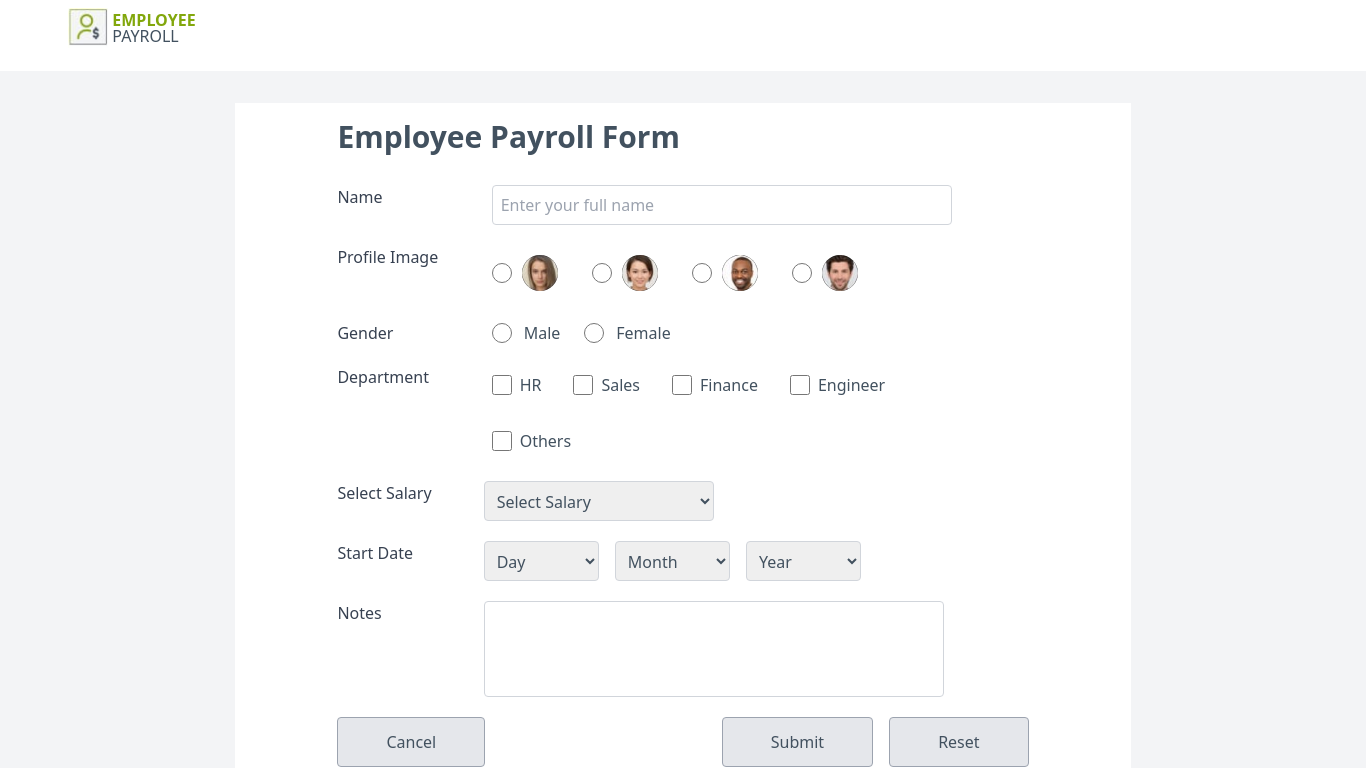
Test: Registration Component › resets form fields when Reset button is clicked
This screenshot has width=1366, height=768.
In the field labelled "Name": (722,205) x1=492 y1=185 x2=952 y2=225, type "Reset Test"
Click the radio button labelled "Male": (502,333) x1=492 y1=323 x2=512 y2=343
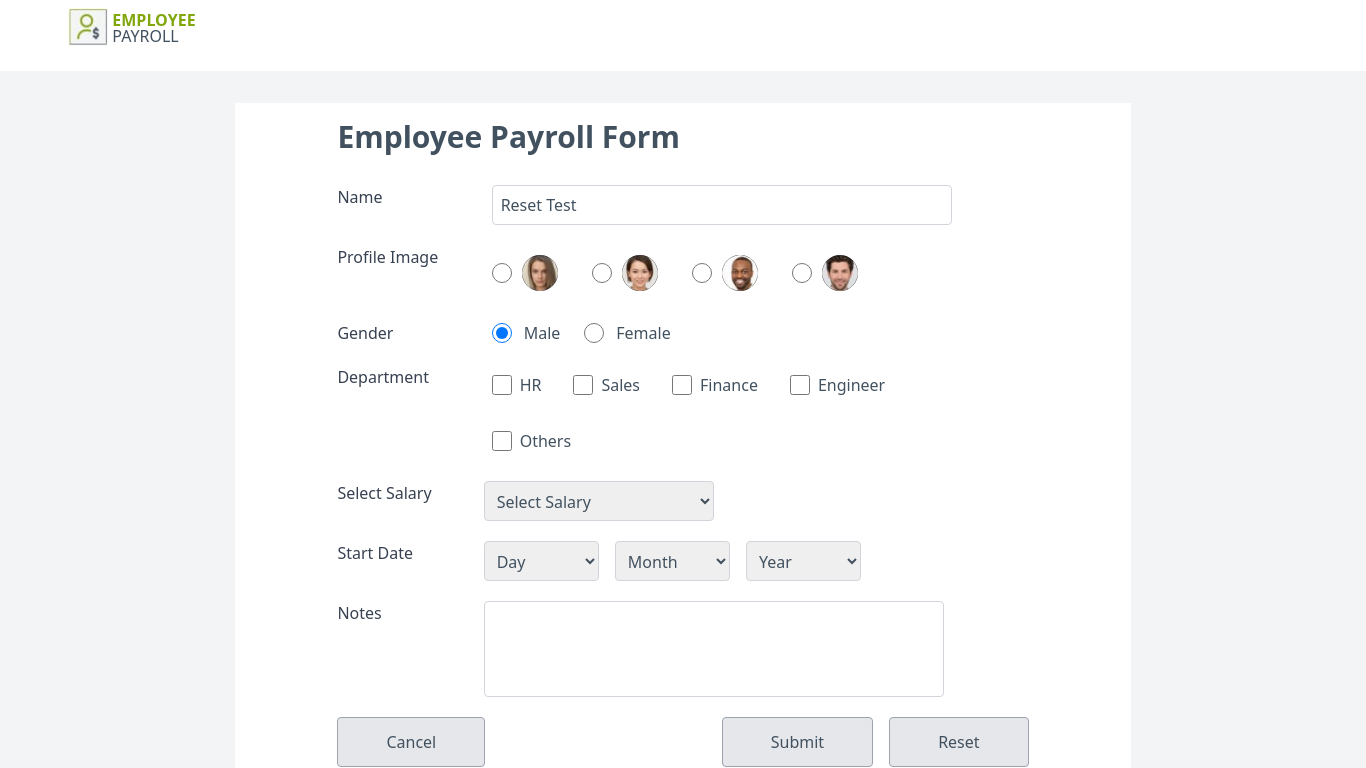
Click the checkbox labelled "HR": (502,385) x1=492 y1=375 x2=512 y2=395
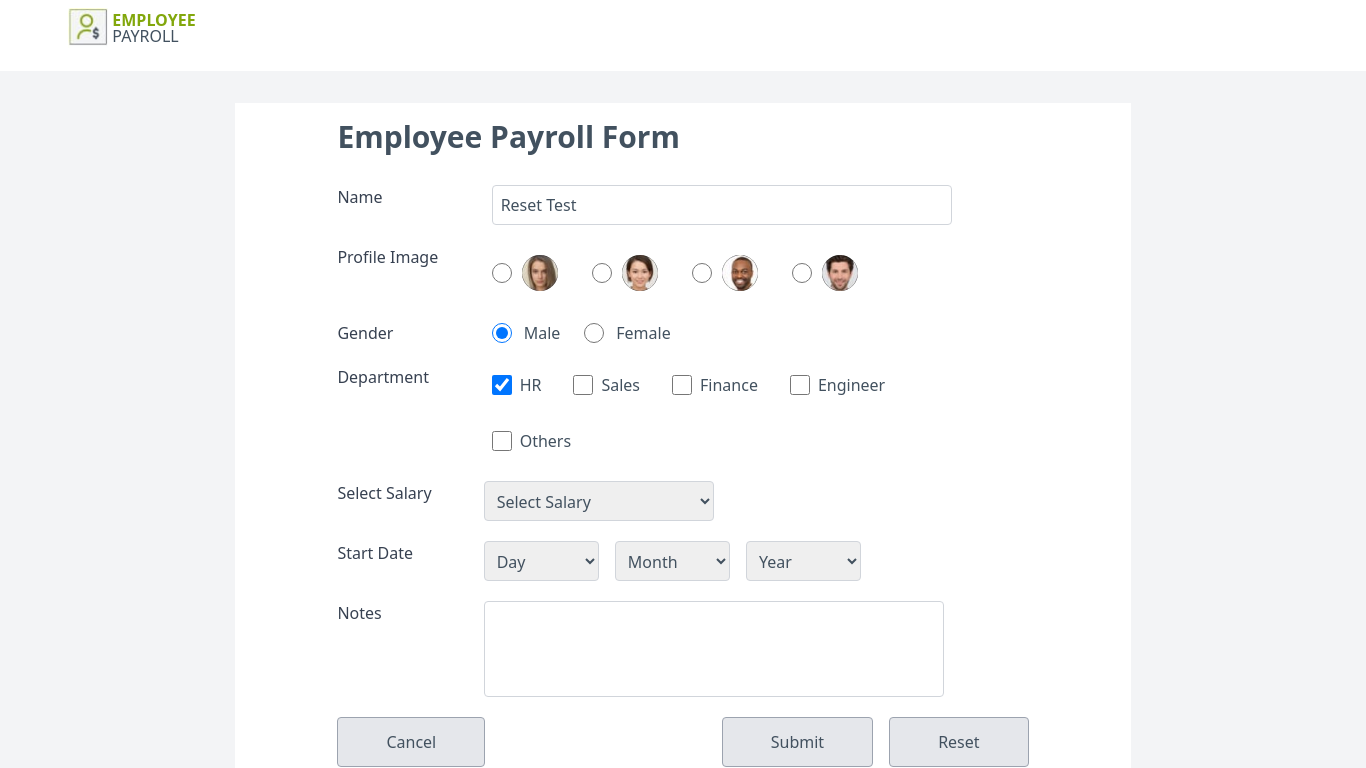
Select "01" in the dropdown with id "day": (541,561) x1=484 y1=541 x2=599 y2=581
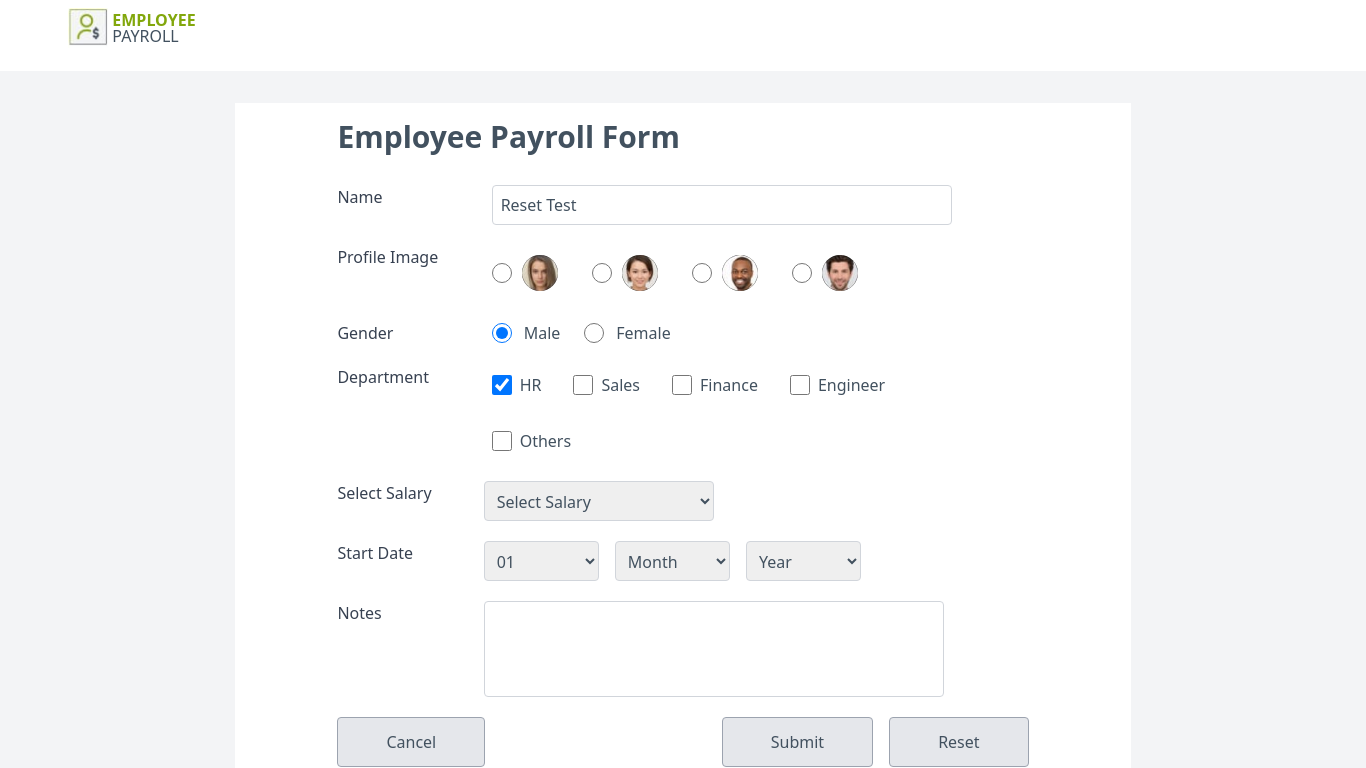
Select "January" in the dropdown with id "month": (672,561) x1=615 y1=541 x2=730 y2=581
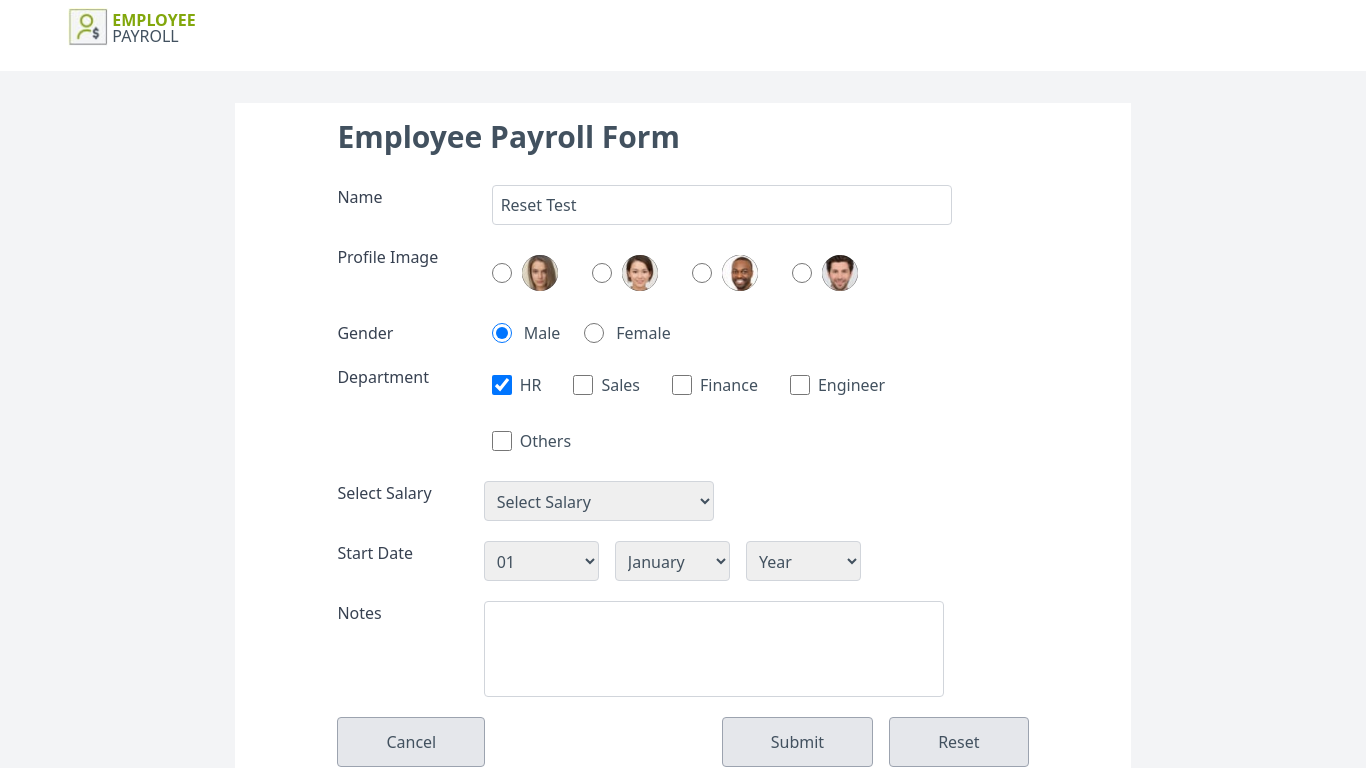
Select "2025" in the dropdown with id "year": (804,561) x1=746 y1=541 x2=861 y2=581
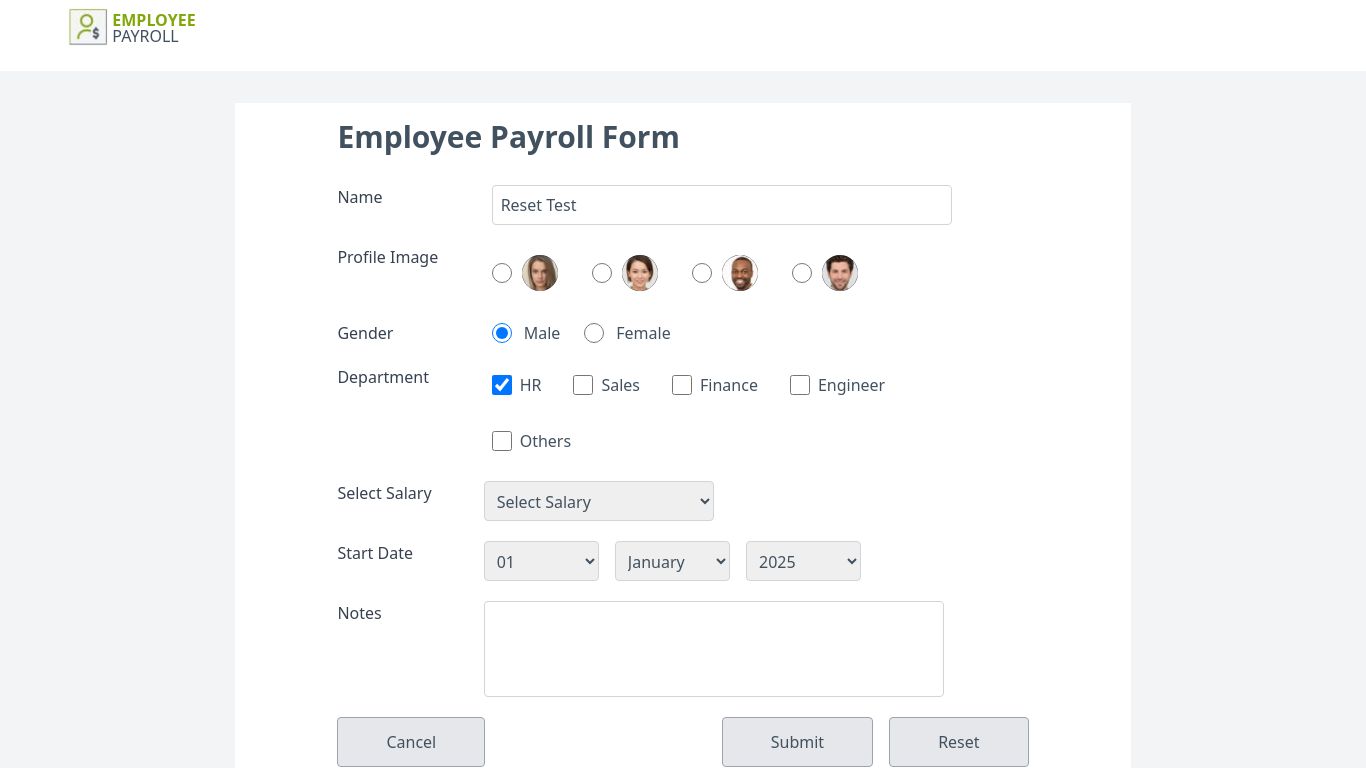
Result: the radio button labelled "Male" is checked at x1=492 y1=323 x2=512 y2=343
Result: the checkbox labelled "HR" is checked at x1=492 y1=375 x2=512 y2=395
Click the button "Reset": (959,742) x1=889 y1=717 x2=1029 y2=767
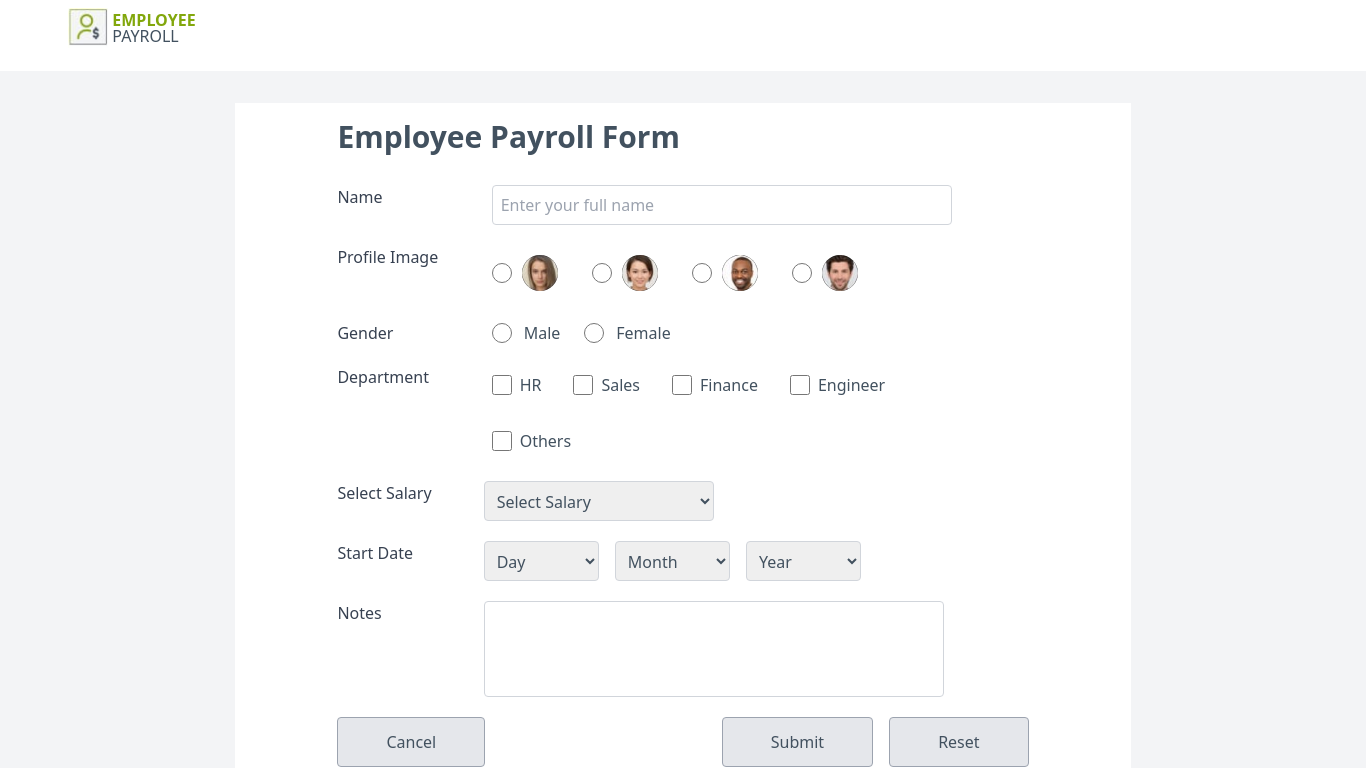
Result: the radio button labelled "Male" is not checked at x1=492 y1=323 x2=512 y2=343
Result: the checkbox labelled "HR" is not checked at x1=492 y1=375 x2=512 y2=395
Result: the field labelled "Name" is empty at x1=492 y1=185 x2=952 y2=225
